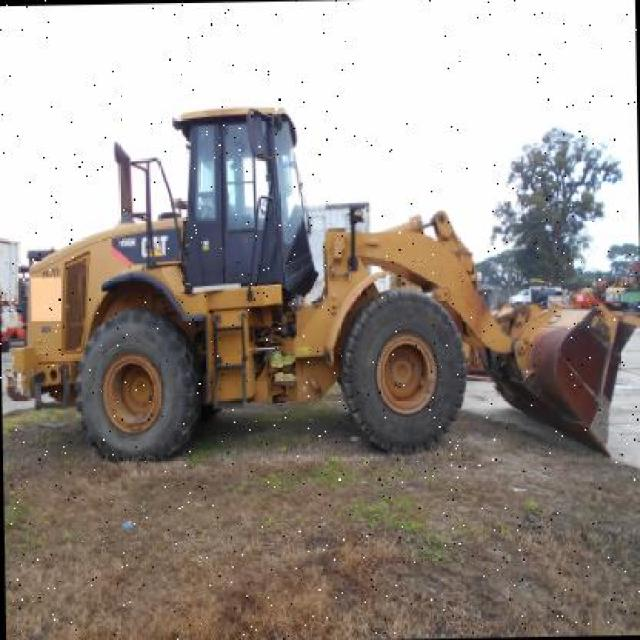buldozerpayloadergrader: (0, 88, 640, 472)
